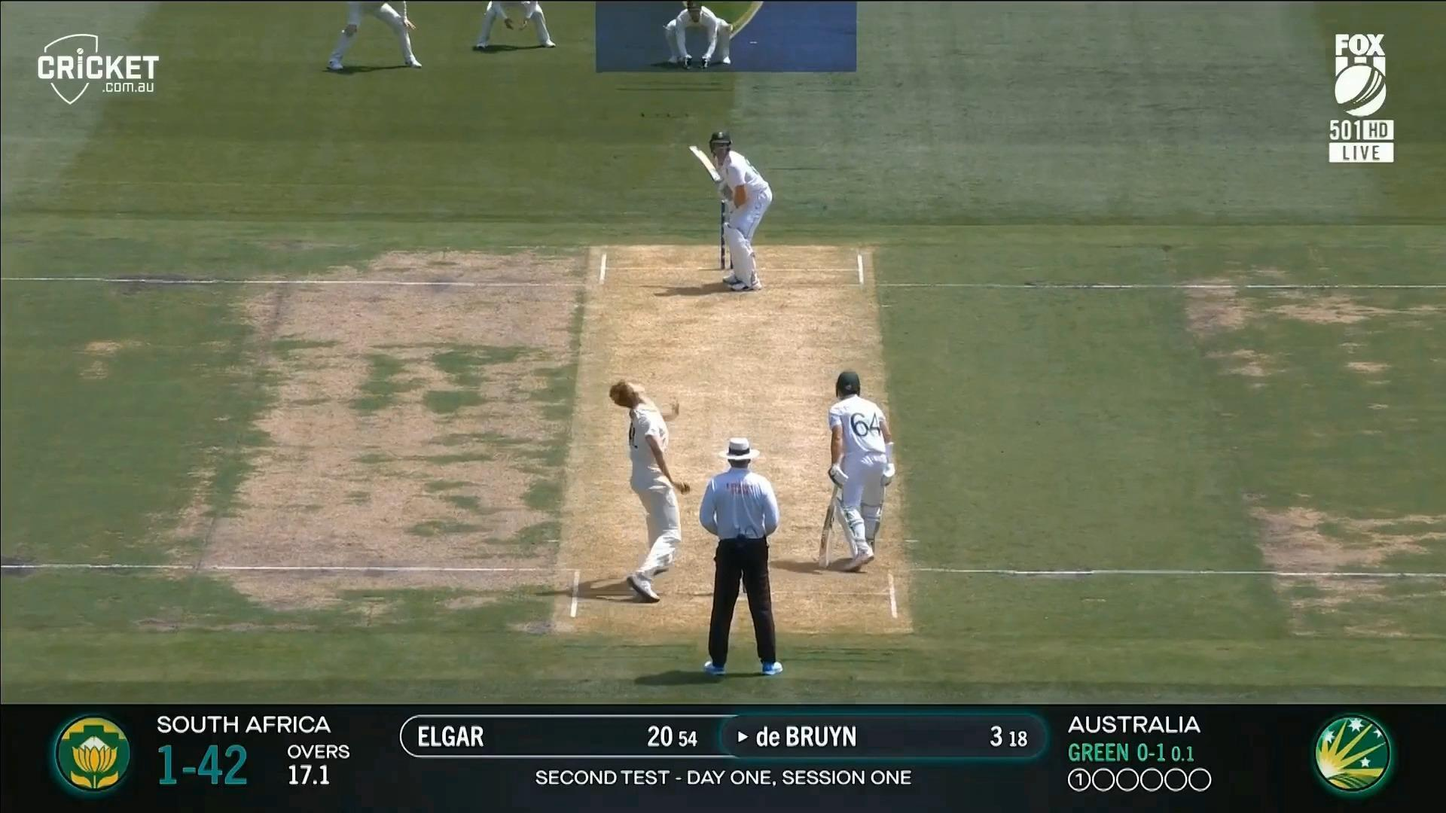BM 1: (689, 132, 773, 291)
BO: (610, 378, 691, 600)
